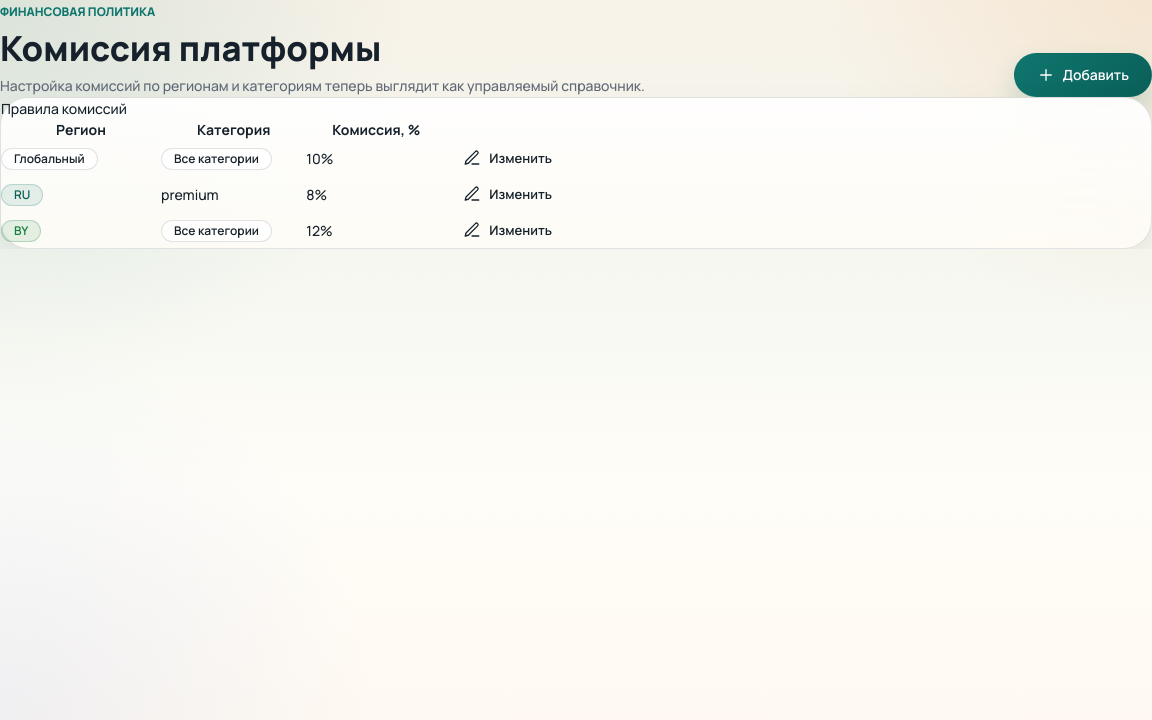
Test: ServiceFeeConfig › opens create modal when add button clicked
Step 1. Click the button "Добавить" → (1083, 75), box [1014, 53, 1151, 97]
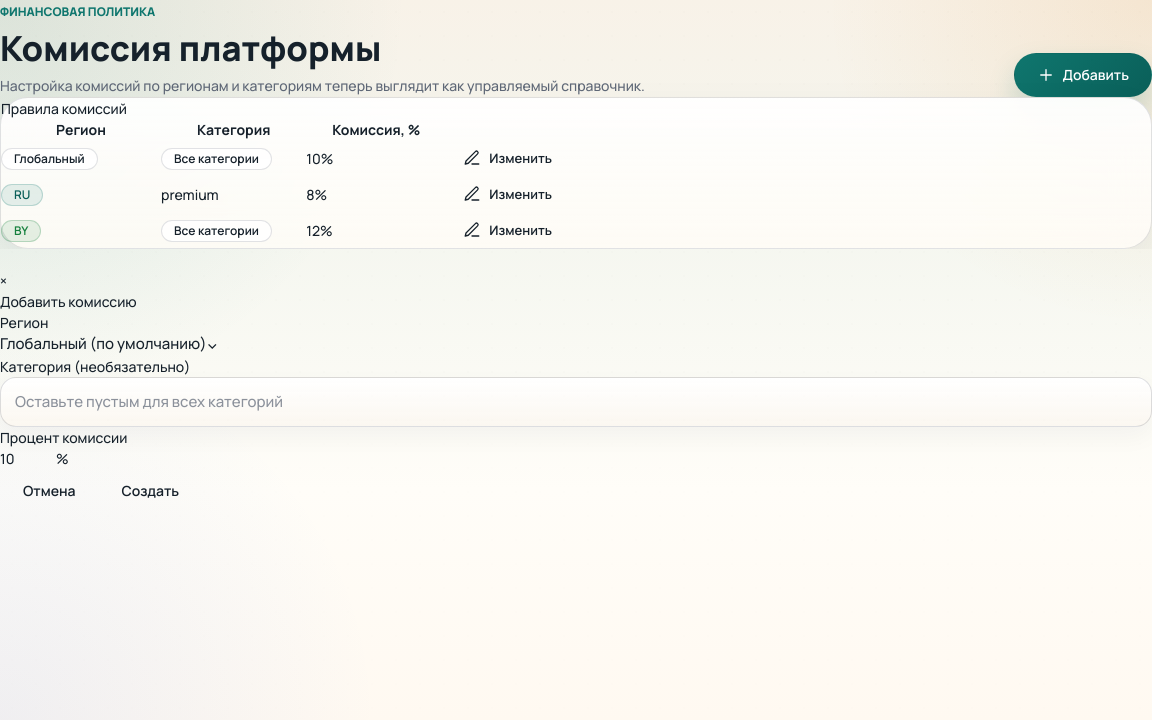
expect the text "Добавить комиссию" is shown: met, box [0, 292, 137, 311]
